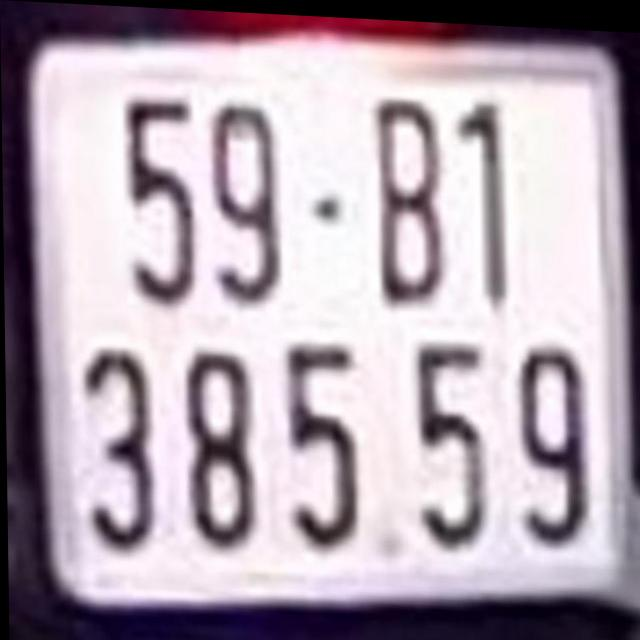1: (456, 91, 511, 301)
3: (81, 341, 156, 547)
5: (118, 89, 201, 299), (286, 336, 363, 553), (417, 334, 489, 552)
8: (184, 349, 257, 545)
9: (210, 99, 282, 306), (519, 341, 591, 544)
B: (376, 100, 447, 296)
